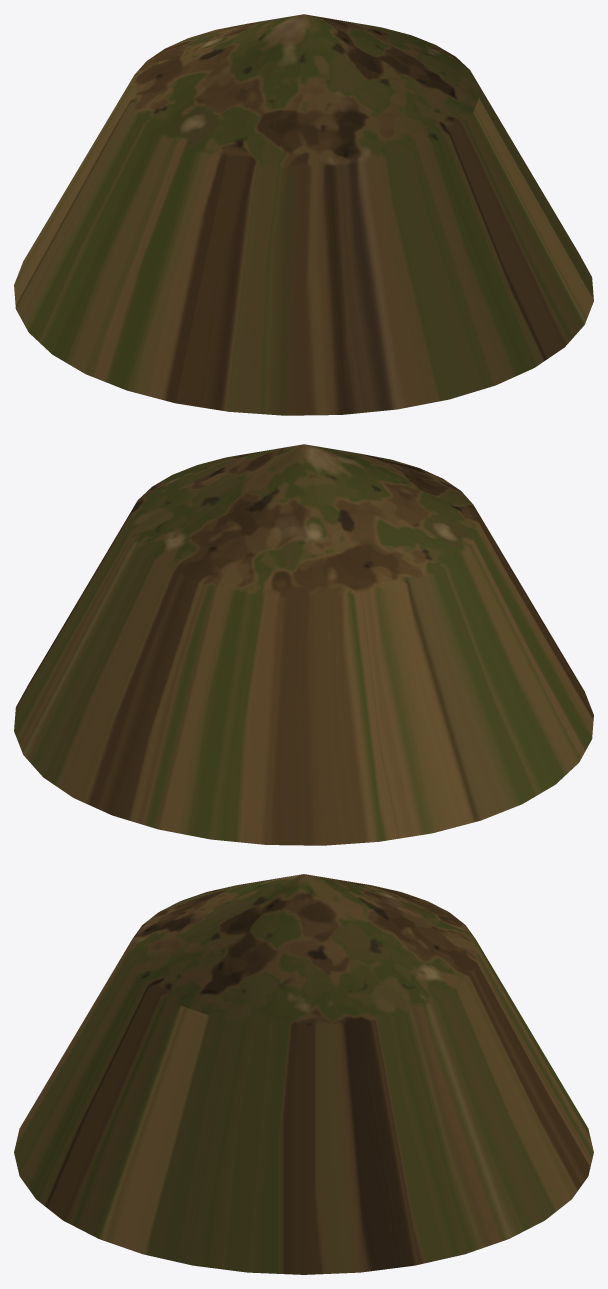
The model's file is XS sharp.glb.
3 views of the same model, one above another, from view 1: azimuth 30°, elevation 25°; view 2: azimuth 150°, elevation 25°; view 3: azimuth 270°, elevation 25° (orthographic).
Visible parts, largest first — view 1: XS sharp; view 2: XS sharp; view 3: XS sharp.
Boxes of the visible parts, x1,y1,x2,y2 form: XS sharp: (14, 14, 593, 415); XS sharp: (14, 444, 593, 845); XS sharp: (14, 874, 593, 1274).
Size of the model in its own units: 0.2069 by 0.1096 by 0.2069.
Materials: 1 (1 with a texture image).
